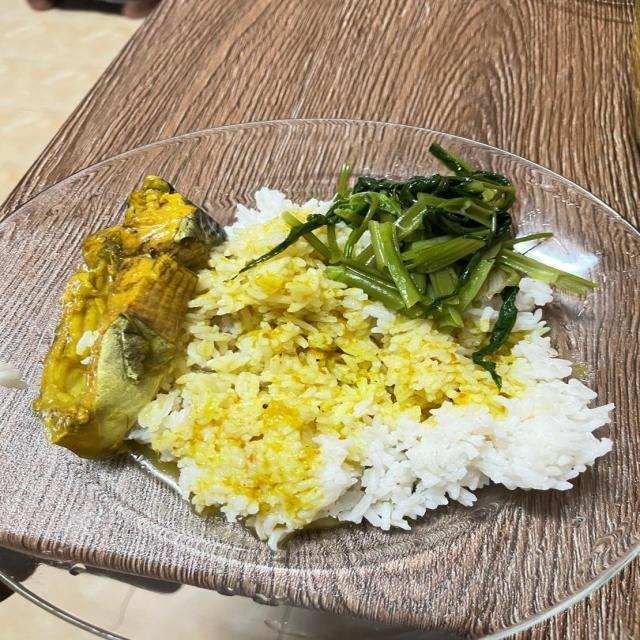Fish: (36, 169, 227, 457)
Plate: (0, 159, 639, 635), (0, 121, 438, 383)
Rice: (132, 185, 615, 551)
Vegetables: (238, 142, 597, 389)
